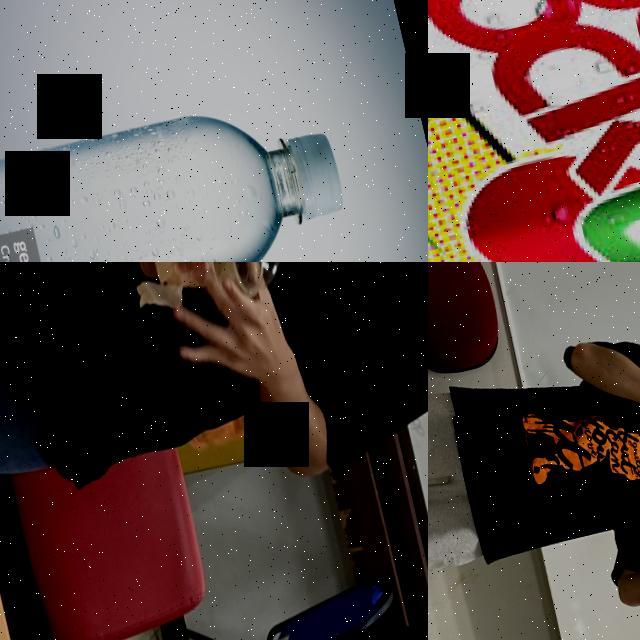bottle: (0, 81, 359, 262)
cup: (122, 262, 290, 325)
